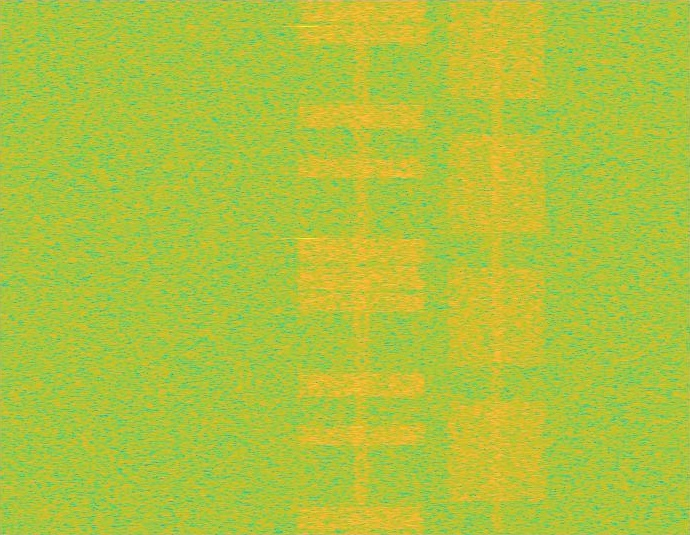5G: (445, 0, 548, 534)
DSSS: (352, 0, 371, 534), (490, 0, 504, 534)
LTE: (293, 0, 431, 534)
Radar: (300, 0, 314, 534)
